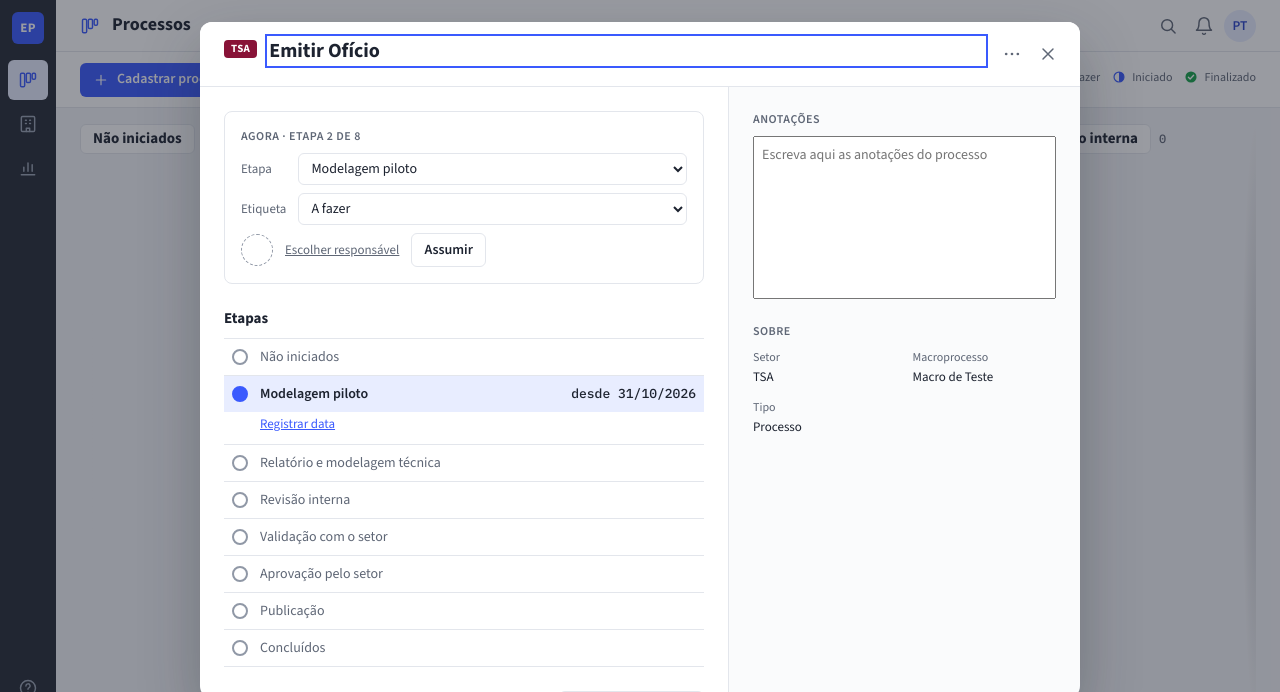
Scenario: gravar as Anotações não põe nada no Histórico do processo
Type "Texto" into the text box labelled "Anotações". click: (904, 218)
box: [753,136,1056,299]
Wait 1000 ms
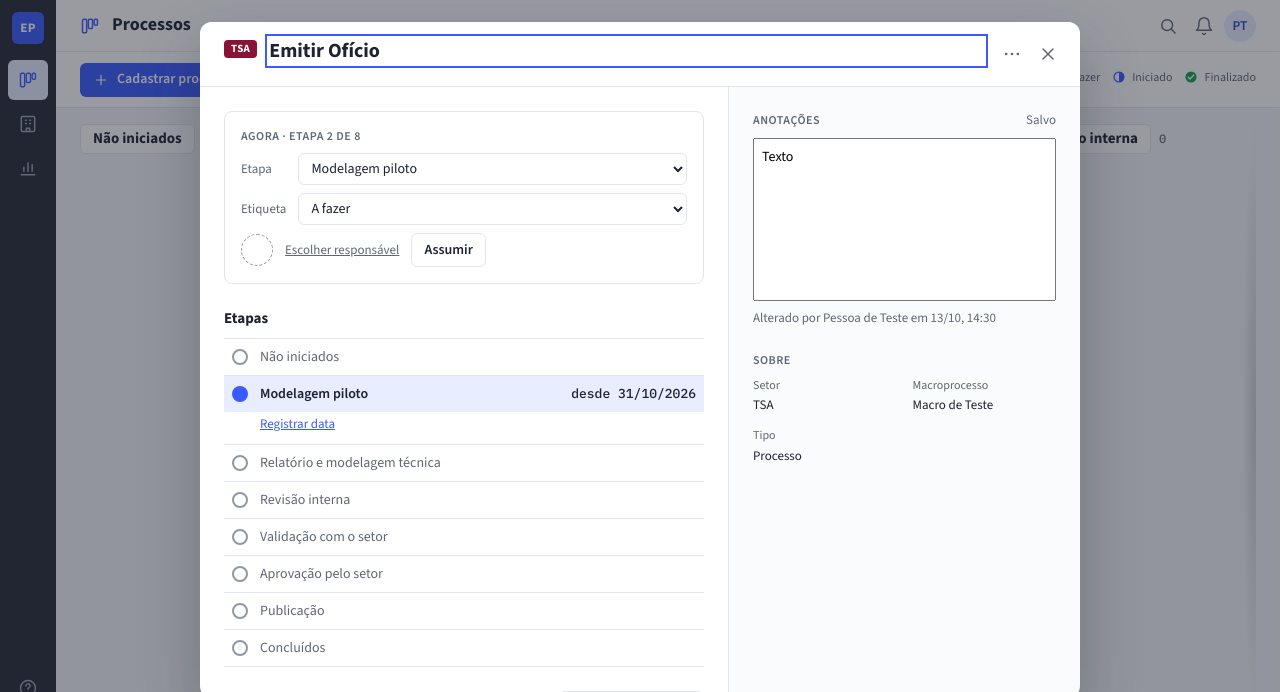
Result: the text "Salvo" is shown at [1026,111,1056,130]
Click the button named "Ações do processo". click: click(1012, 54)
box: [996,38,1028,70]
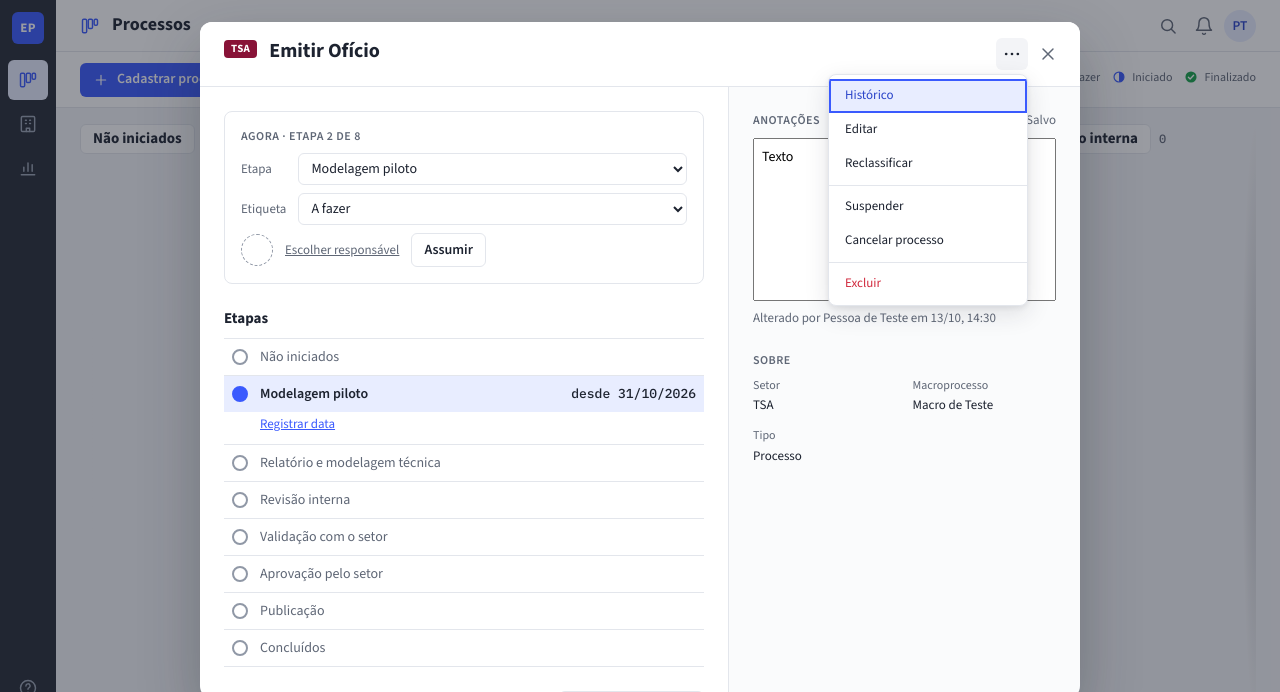
Click the menu item "Histórico". click: click(928, 96)
box: [829,79,1027,113]
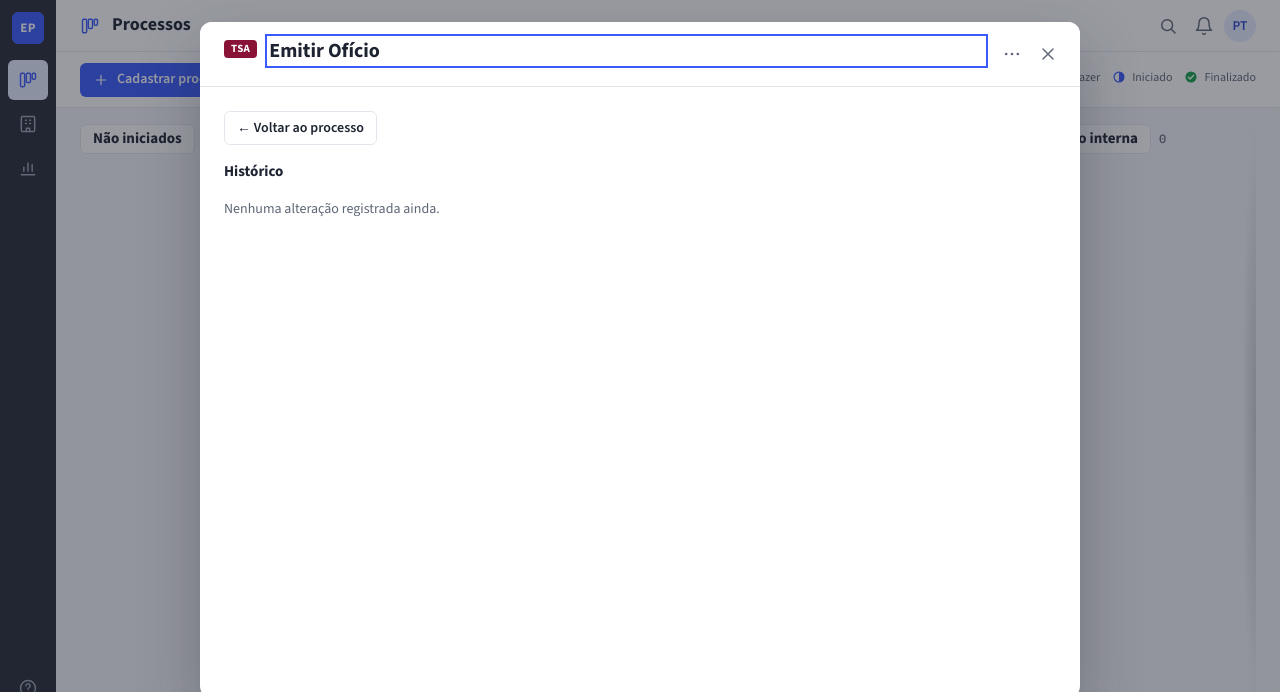
Result: the heading "Anota" is gone
